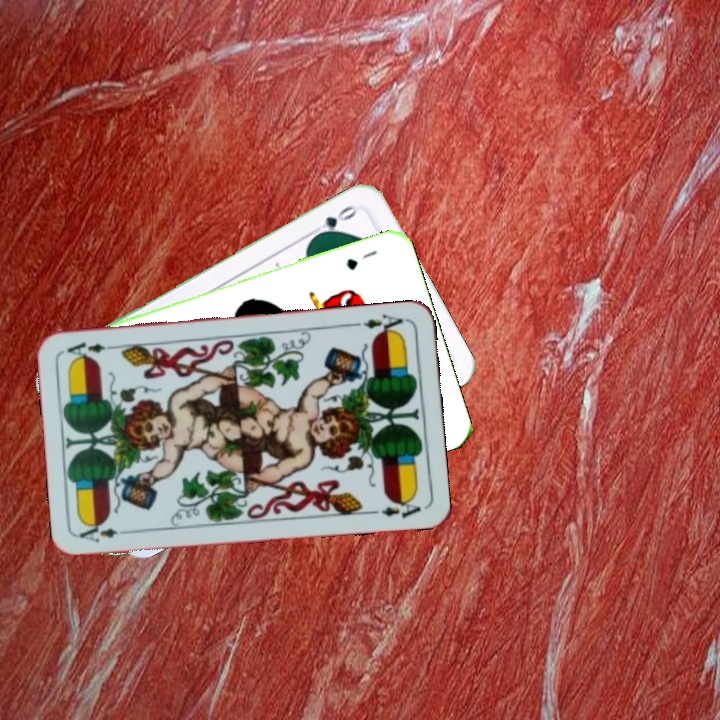EA: (76, 520, 135, 546), (359, 310, 408, 338)
GO: (307, 201, 360, 240)
GU: (342, 246, 380, 273)
